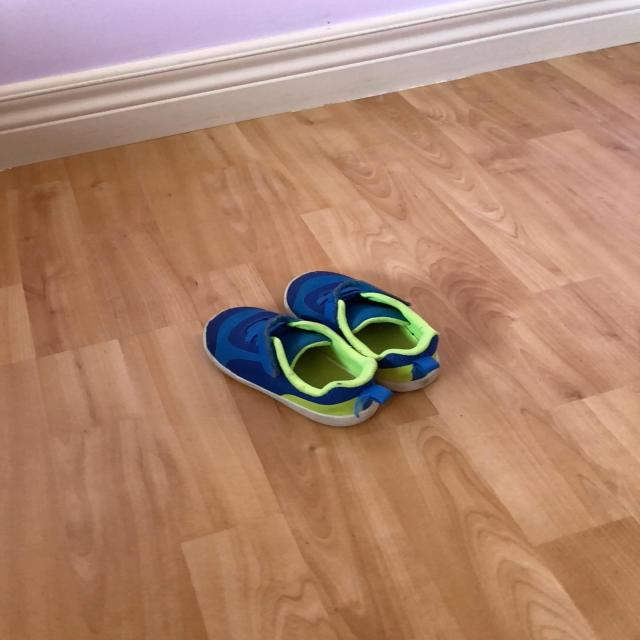shoe: (282, 271, 441, 422), (203, 308, 392, 427)
